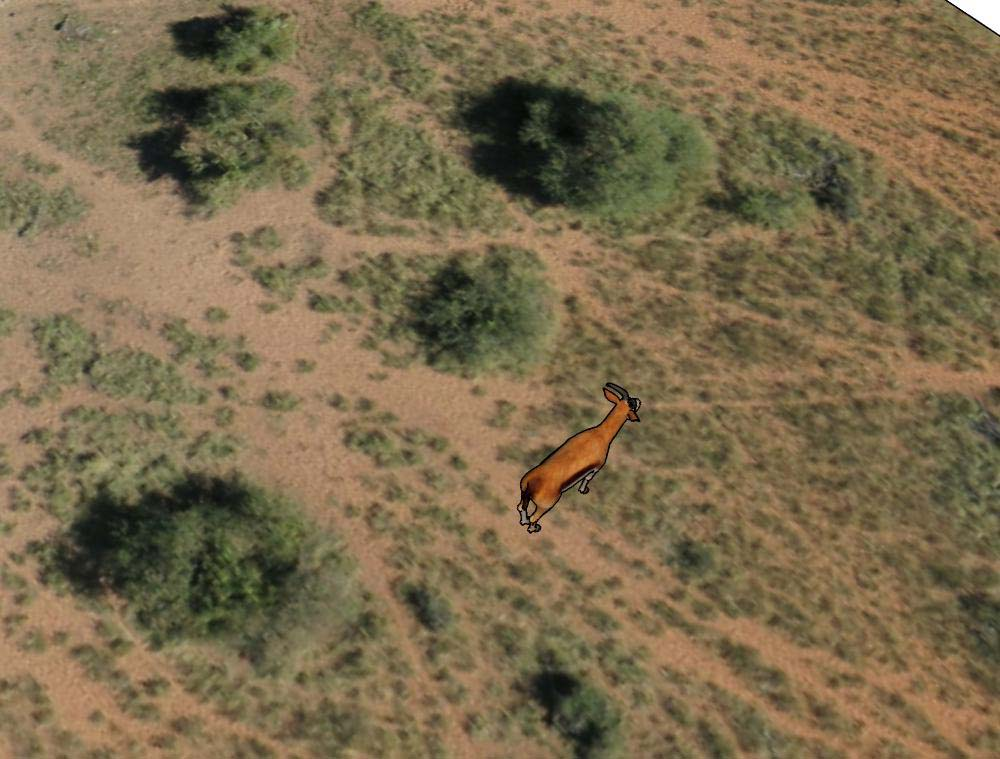springbok: (516, 378, 644, 536)
